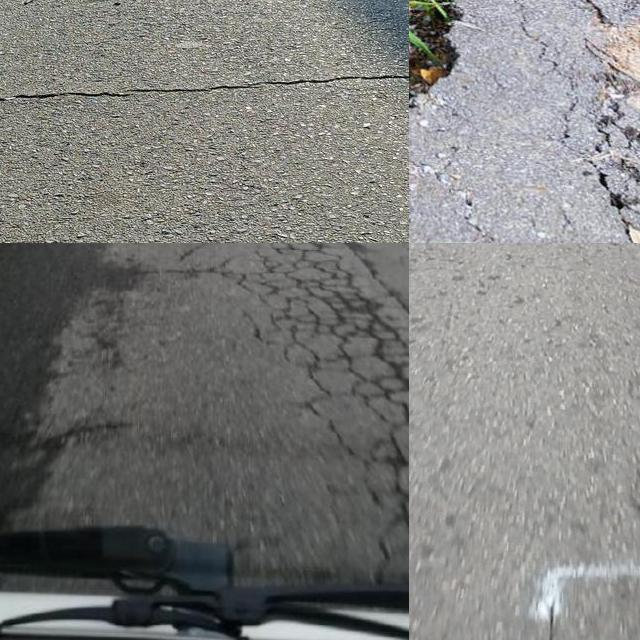Melintang: (0, 63, 409, 105)
Retak Buaya: (236, 243, 409, 603)
